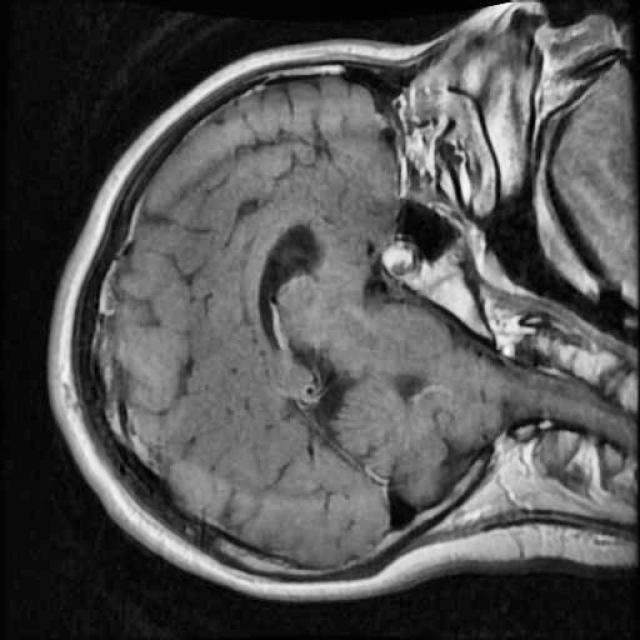Tumor: (376, 234, 435, 290)
